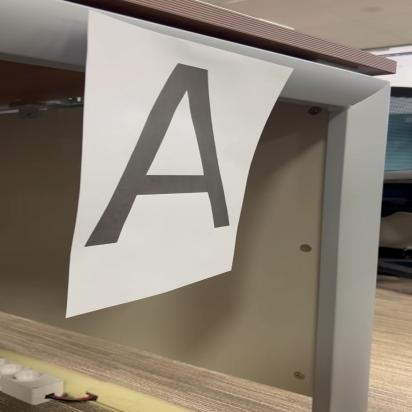seat: (81, 58, 257, 260)
